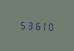five: (18, 19, 24, 30)
one: (39, 20, 45, 31)
six: (32, 19, 38, 31)
three: (25, 19, 31, 30)
zero: (46, 20, 52, 31)
